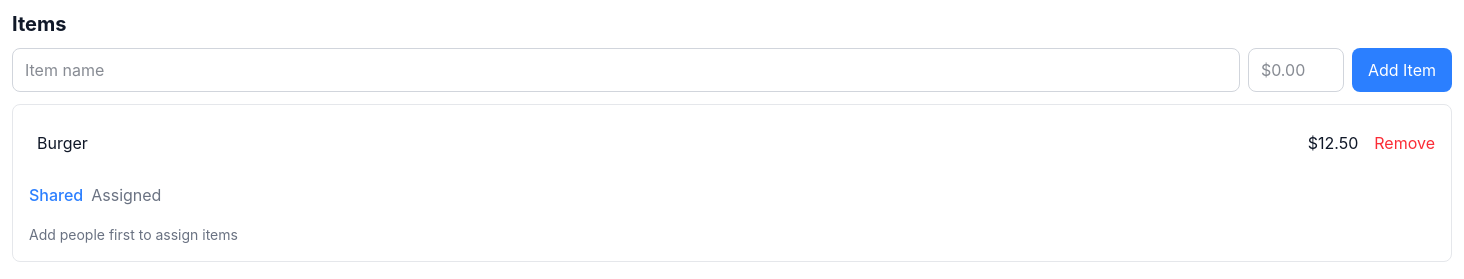
Test case: ItemsPanel › deletes an item (ITEMS-02)
Expected: the text "Burger" is shown, [37, 133, 88, 153]
Click the button "Remove": (1405,143) [1374, 121, 1435, 165]
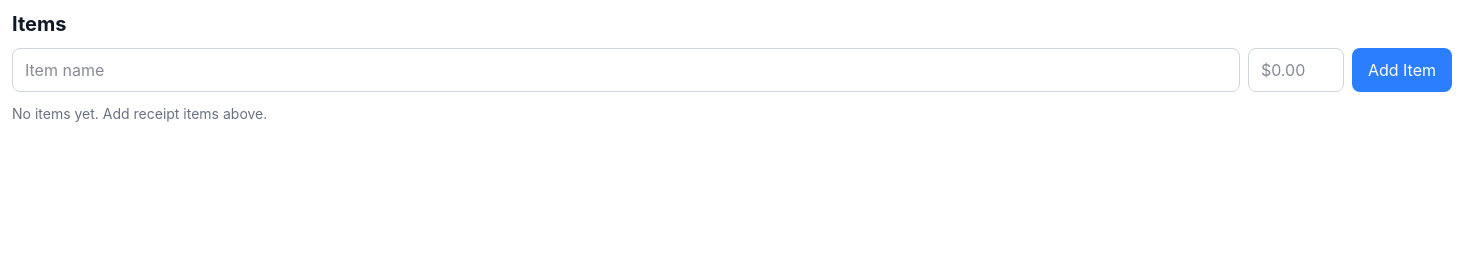
Result: the text "Burger" is gone
Result: the text "No items yet. Add receipt items above." is shown at [12, 105, 267, 122]
